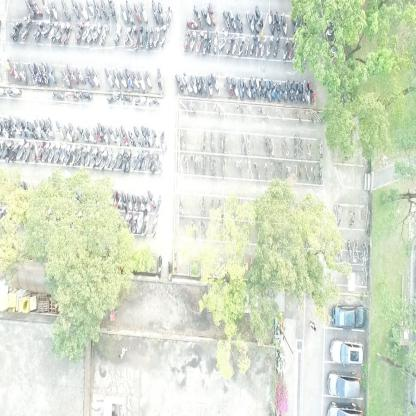car: (331, 301, 367, 330), (327, 370, 361, 400), (329, 337, 364, 366), (327, 401, 363, 415)
